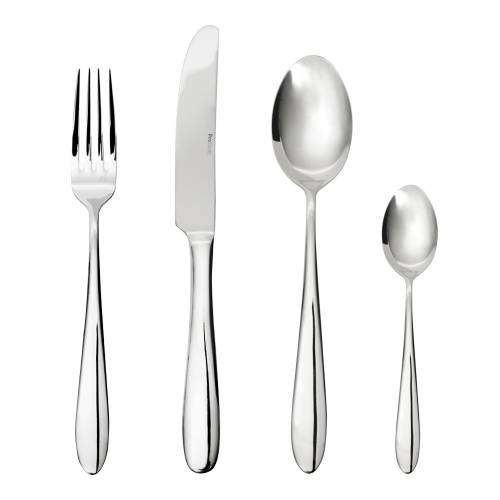Lyzka: (270, 50, 350, 194), (380, 182, 439, 281)
Noz: (171, 24, 221, 235)
Widelec: (69, 67, 120, 206)
